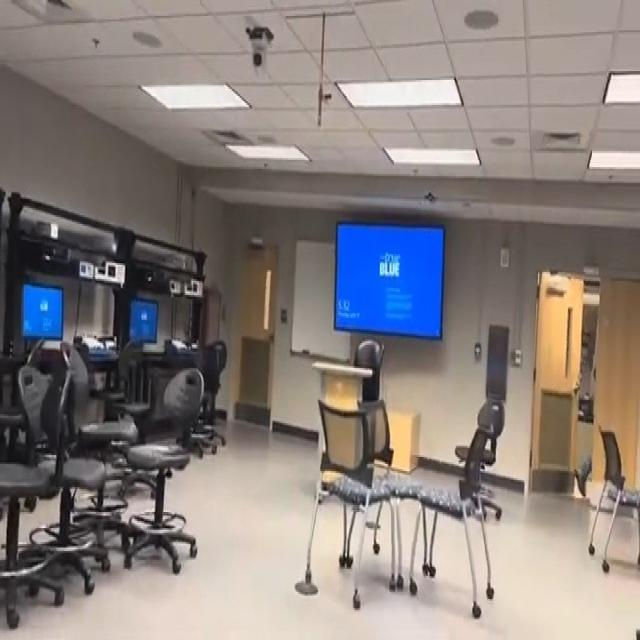drone: (412, 170, 444, 216)
